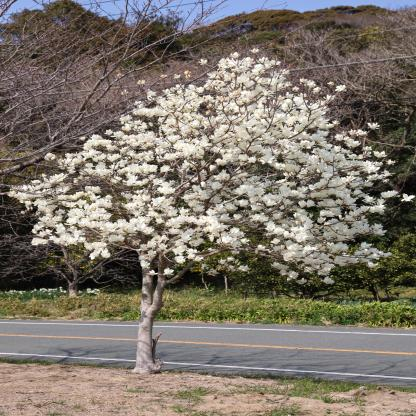Mokuren: (0, 47, 416, 281)
